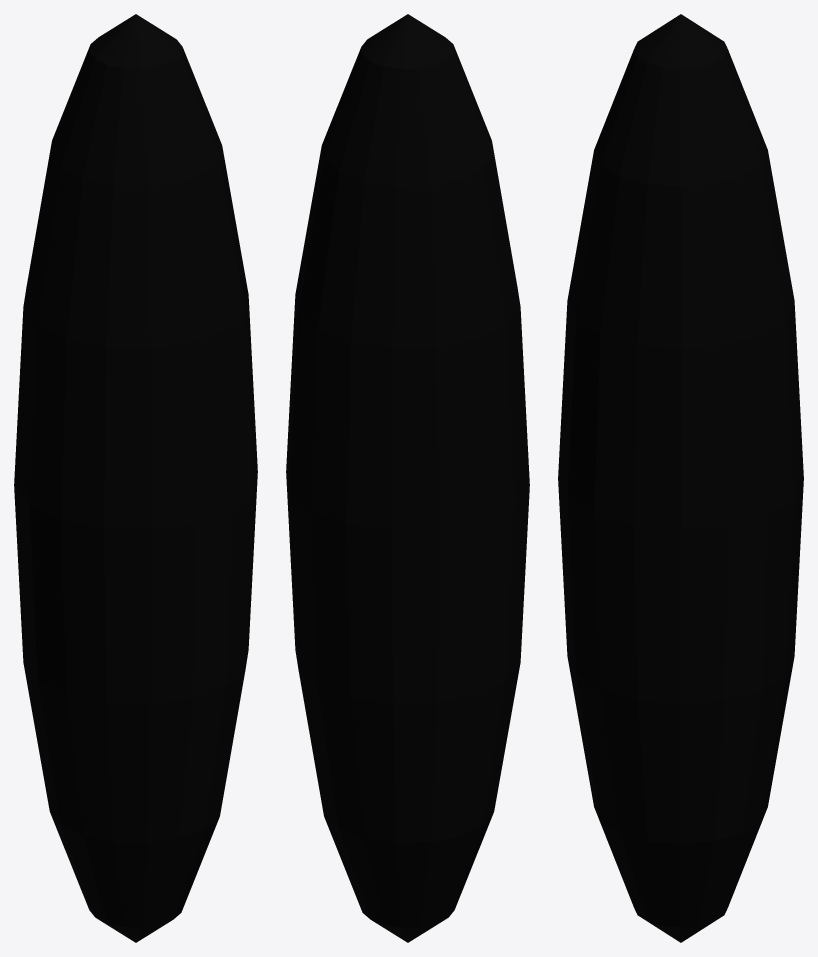
The model's file is spark.obj.
The picture shows the model from 3 angles, left to right: view 1: azimuth 30°, elevation 25°; view 2: azimuth 150°, elevation 25°; view 3: azimuth 270°, elevation 25°; orthographic projection.
Parts seen in each view (by area): view 1: 球; view 2: 球; view 3: 球.
Boxes of the visible parts, bbox=[...] form: 球: bbox=[14, 14, 257, 942]; 球: bbox=[286, 14, 529, 942]; 球: bbox=[558, 14, 803, 942].
Size of the model in its own units: 0.4603 by 1.92 by 0.4603.
Materials: 1 (1 with a texture image).
